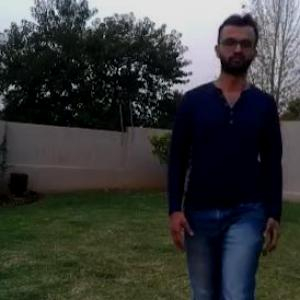follow: (174, 29, 268, 299)
